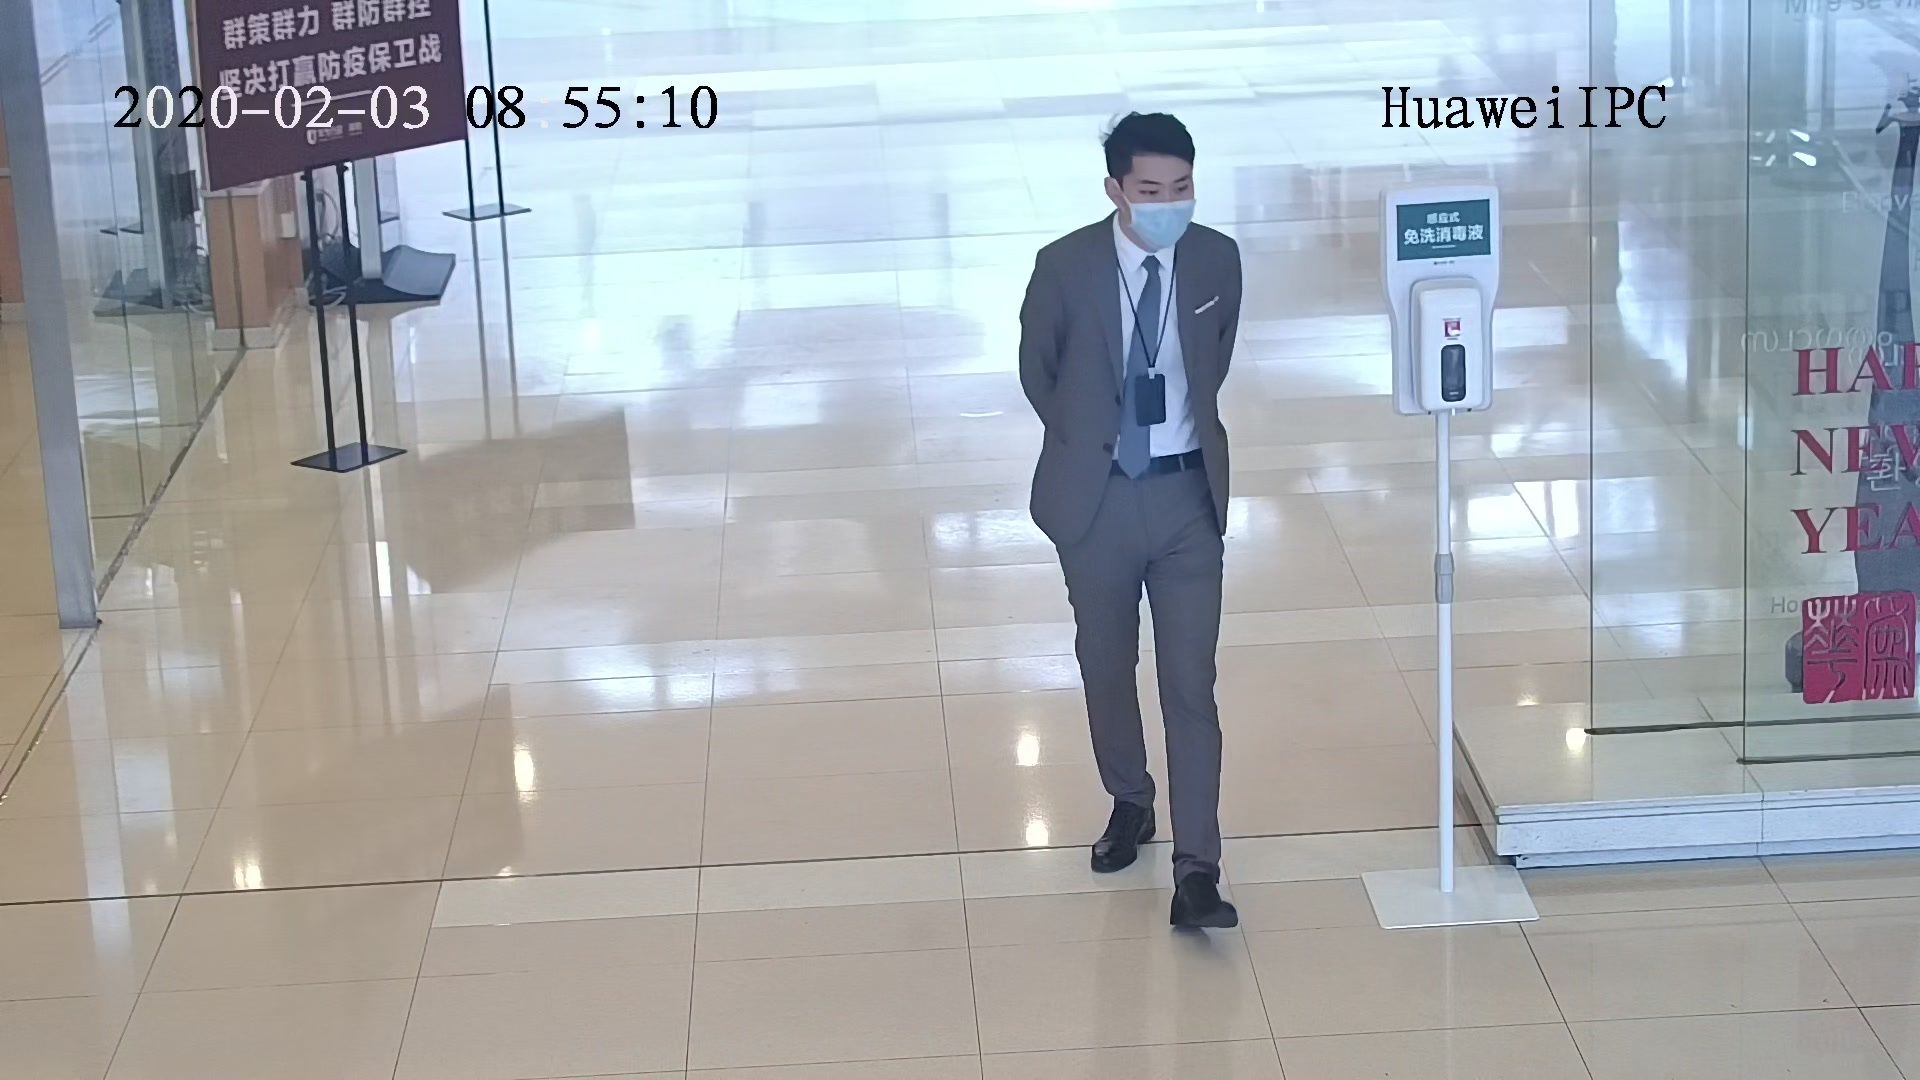face: (1117, 147, 1195, 246)
mask: (1127, 203, 1188, 244)
person: (1026, 103, 1247, 293)
